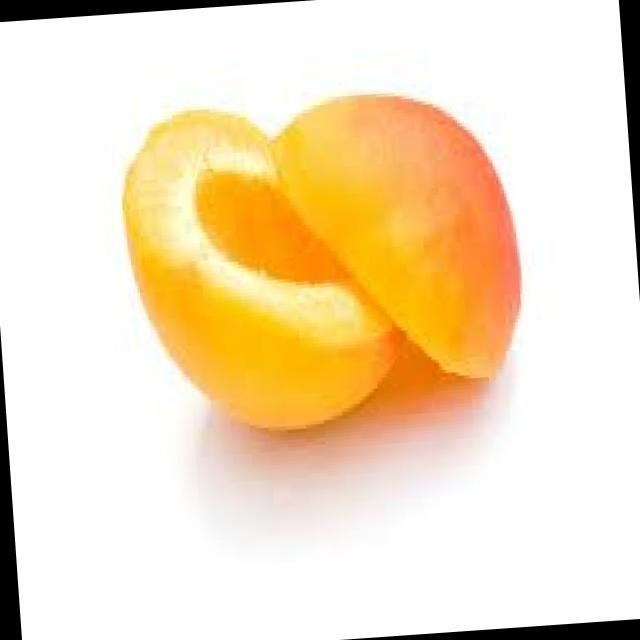Apricot: (94, 47, 568, 486)
